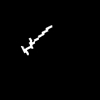double_crochet: (21, 26, 51, 54)
